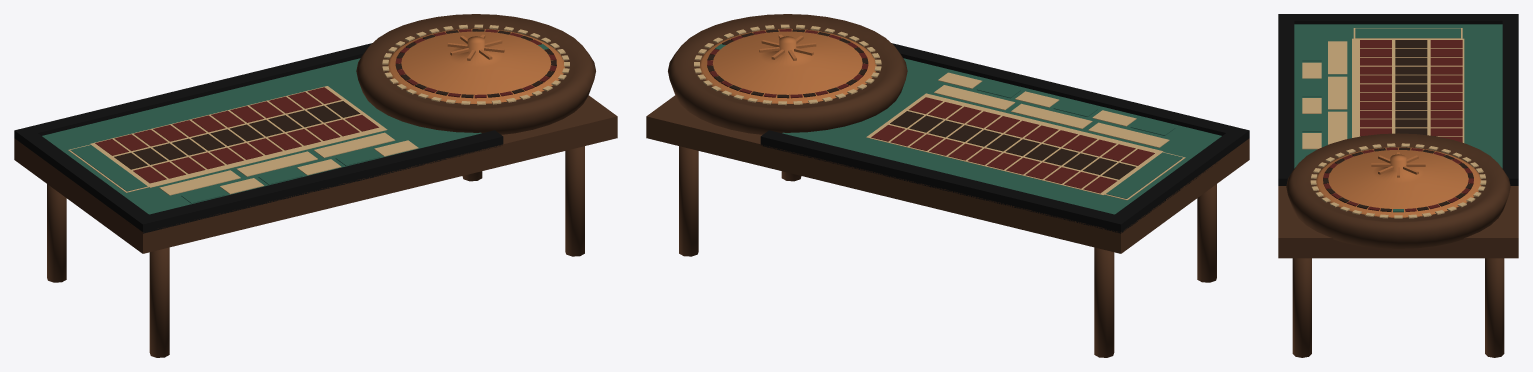
Rendered from roulette_table.glb.
3 renders of one model, left to right at view 1: azimuth 30°, elevation 25°; view 2: azimuth 150°, elevation 25°; view 3: azimuth 270°, elevation 25°, orthographic. The views are drawn at different scales.
Parts seen in each view (by area): view 1: roulette_table wood, roulette_table felt, roulette_table rubber, roulette_table stone, roulette_table metal, roulette_table carpet, roulette_table sign; view 2: roulette_table wood, roulette_table felt, roulette_table rubber, roulette_table stone, roulette_table metal, roulette_table carpet, roulette_table sign; view 3: roulette_table wood, roulette_table felt, roulette_table metal, roulette_table stone, roulette_table rubber, roulette_table carpet, roulette_table sign.
Boxes of the visible parts, x1,y1,x2,y2 form: roulette_table wood: [14, 14, 617, 357]; roulette_table felt: [42, 44, 548, 214]; roulette_table rubber: [14, 43, 503, 233]; roulette_table stone: [68, 24, 569, 195]; roulette_table metal: [387, 28, 564, 103]; roulette_table carpet: [95, 29, 556, 183]; roulette_table sign: [114, 29, 556, 169]; roulette_table wood: [646, 14, 1249, 357]; roulette_table felt: [715, 44, 1221, 214]; roulette_table rubber: [760, 43, 1249, 233]; roulette_table stone: [694, 24, 1185, 200]; roulette_table metal: [699, 28, 876, 103]; roulette_table carpet: [707, 29, 1154, 193]; roulette_table sign: [707, 29, 1135, 179]; roulette_table wood: [1278, 133, 1518, 357]; roulette_table felt: [1294, 24, 1502, 212]; roulette_table metal: [1315, 147, 1481, 217]; roulette_table stone: [1302, 28, 1486, 218]; roulette_table rubber: [1278, 14, 1518, 185]; roulette_table carpet: [1323, 40, 1473, 211]; roulette_table sign: [1323, 40, 1473, 211].
Size of what is drawn, in the model's own units: 3.38 by 1.21 by 1.5.
